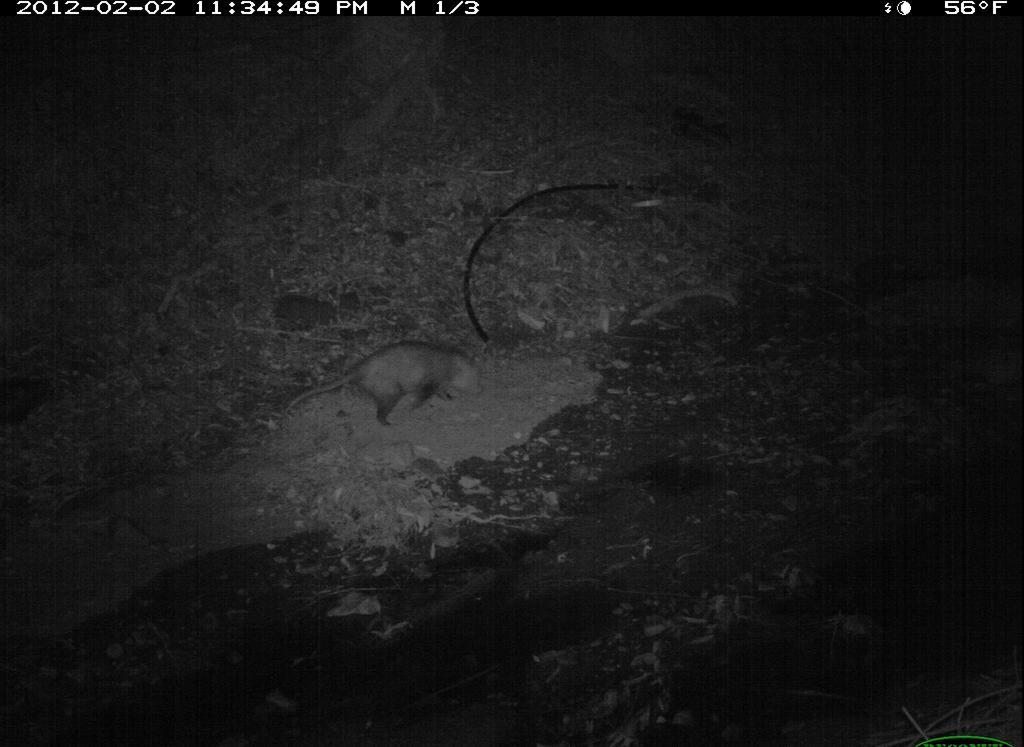opossum: (289, 336, 496, 437)
